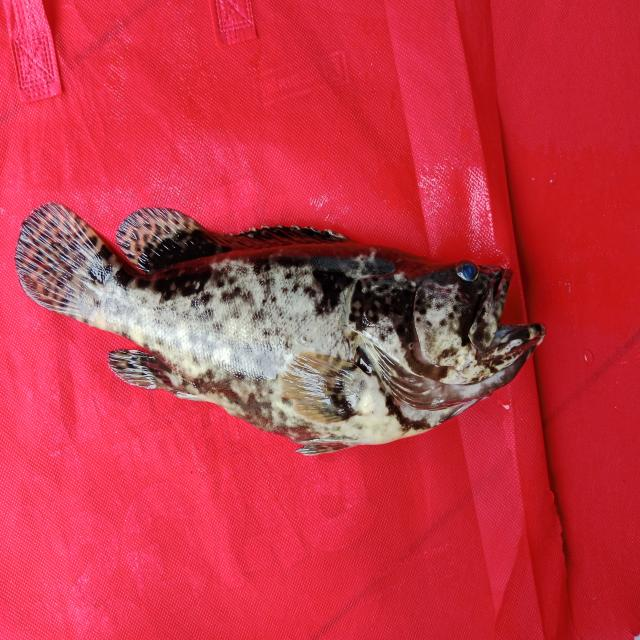ikan: (14, 199, 546, 457)
